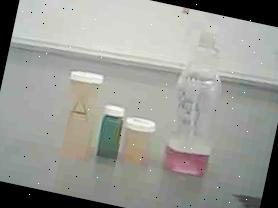Bottle A: (47, 61, 112, 165)
Bottle B: (116, 105, 163, 170)
Bottle C: (88, 93, 132, 165)
hazard: (148, 6, 250, 182)
